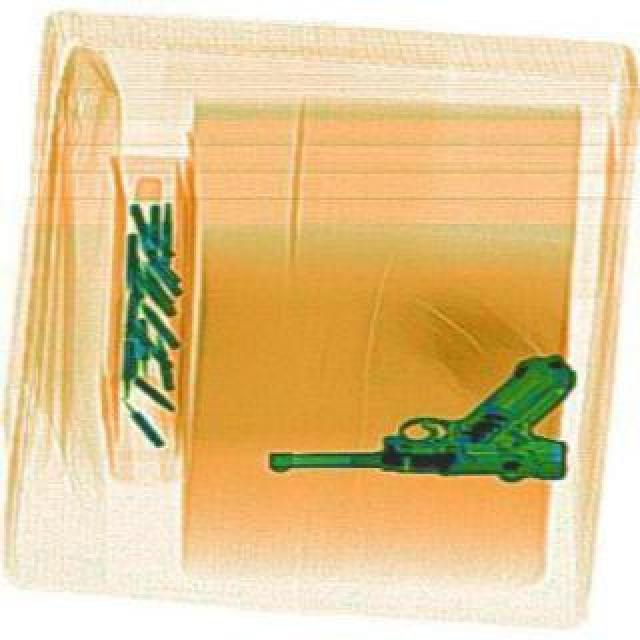gun: (274, 352, 580, 486)
